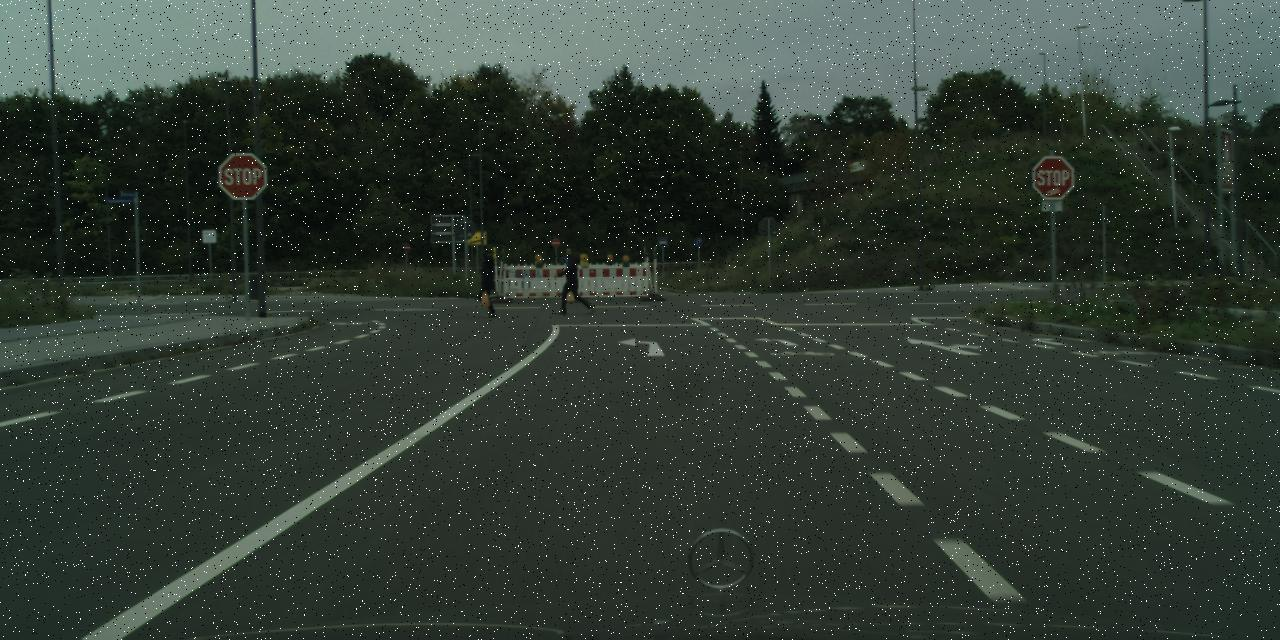ped: (558, 248, 586, 312), (474, 252, 500, 316)
